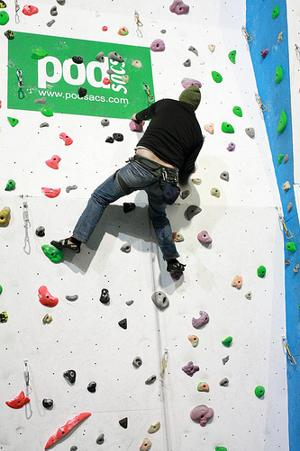person: (51, 81, 205, 285)
